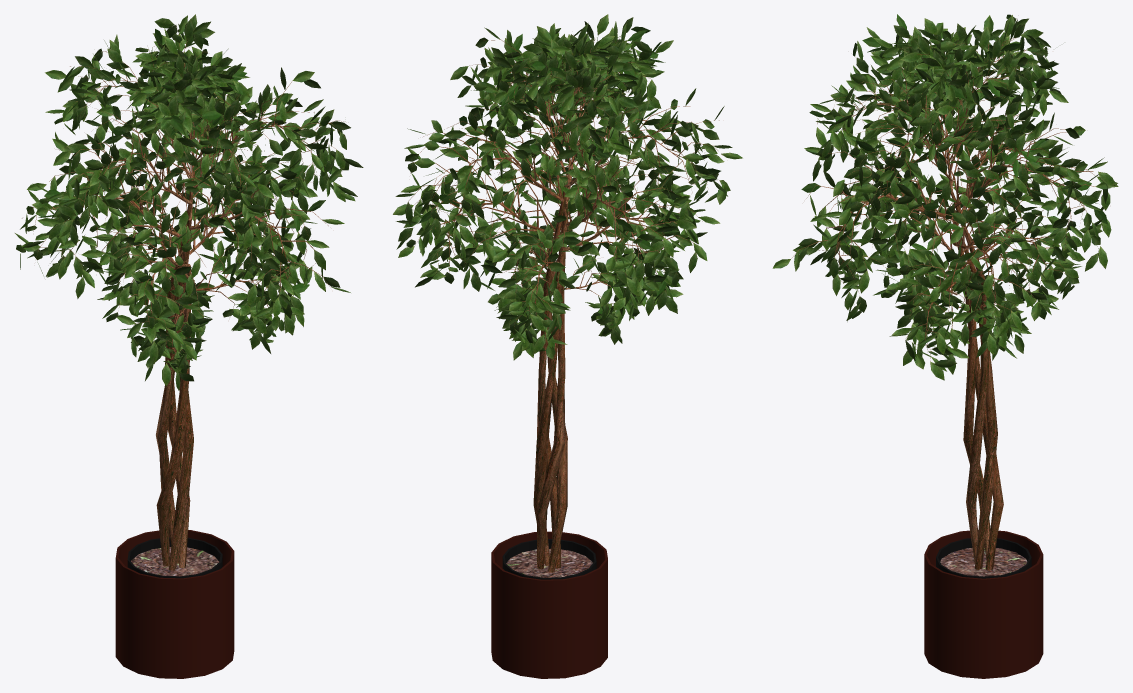
The model's file is ficus.obj.
3 views of the same model, side by side, from view 1: azimuth 30°, elevation 25°; view 2: azimuth 150°, elevation 25°; view 3: azimuth 270°, elevation 25° (orthographic).
Visible parts, largest first — view 1: leaves, tree_Mesh, Cylinder.001_Cylinder.002, Cylinder.002_Cylinder.003, Cylinder_Cylinder.001; view 2: leaves, tree_Mesh, Cylinder.001_Cylinder.002, Cylinder.002_Cylinder.003, Cylinder_Cylinder.001; view 3: leaves, tree_Mesh, Cylinder.001_Cylinder.002, Cylinder.002_Cylinder.003, Cylinder_Cylinder.001.
Part boxes in pixels (box(x1,y1,x2,y2)): leaves: box(15, 14, 363, 390); tree_Mesh: box(22, 28, 344, 570); Cylinder.001_Cylinder.002: box(115, 530, 234, 678); Cylinder.002_Cylinder.003: box(131, 547, 218, 576); Cylinder_Cylinder.001: box(127, 537, 222, 578); leaves: box(393, 14, 742, 360); tree_Mesh: box(408, 36, 722, 572); Cylinder.001_Cylinder.002: box(491, 531, 607, 678); Cylinder.002_Cylinder.003: box(506, 548, 592, 577); Cylinder_Cylinder.001: box(502, 539, 596, 579); leaves: box(772, 14, 1118, 380); tree_Mesh: box(791, 38, 1095, 570); Cylinder.001_Cylinder.002: box(924, 530, 1043, 678); Cylinder.002_Cylinder.003: box(940, 547, 1027, 576); Cylinder_Cylinder.001: box(936, 538, 1031, 578).
Size of the model in its own units: 42.46 by 82.39 by 41.52.
